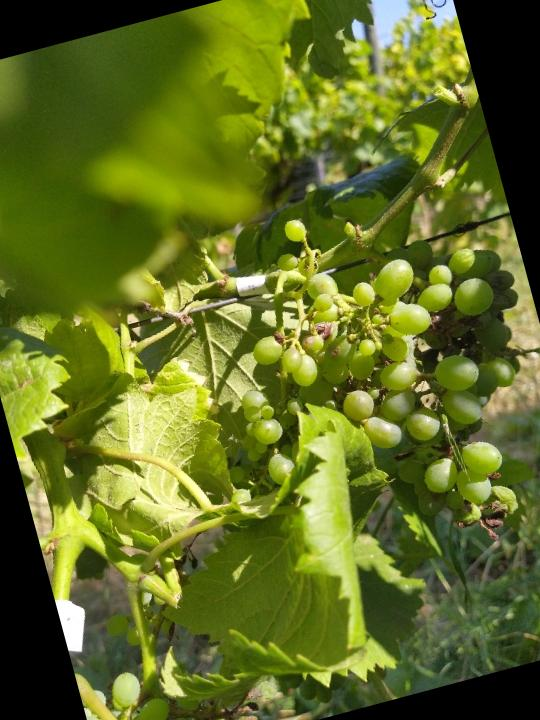grape: (171, 164, 540, 604)
